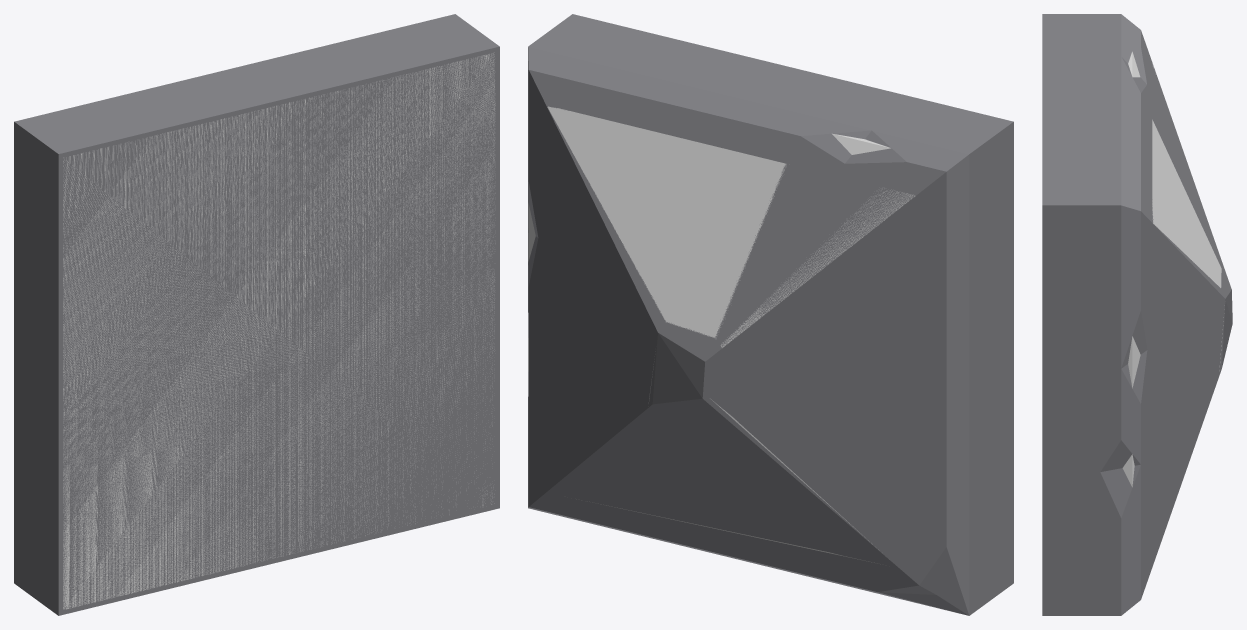
Rendered from SM_Prop_Wall_Panel_Small_03.fbx.
The picture shows the model from 3 angles, left to right: view 1: azimuth 30°, elevation 25°; view 2: azimuth 150°, elevation 25°; view 3: azimuth 270°, elevation 25°; orthographic projection. The views are drawn at different scales.
Parts seen in each view (by area): view 1: SM_Prop_Wall_Panel_Small_03_LOD0, SM_Prop_Wall_Panel_Small_03_ConvexHulls; view 2: SM_Prop_Wall_Panel_Small_03_LOD0, SM_Prop_Wall_Panel_Small_03_ConvexHulls; view 3: SM_Prop_Wall_Panel_Small_03_LOD0, SM_Prop_Wall_Panel_Small_03_ConvexHulls.
Boxes of the visible parts, box(x1,y1,x2,y2) form: SM_Prop_Wall_Panel_Small_03_LOD0: box(14, 14, 499, 615); SM_Prop_Wall_Panel_Small_03_ConvexHulls: box(63, 52, 495, 609); SM_Prop_Wall_Panel_Small_03_LOD0: box(528, 14, 1013, 615); SM_Prop_Wall_Panel_Small_03_ConvexHulls: box(528, 106, 915, 564); SM_Prop_Wall_Panel_Small_03_LOD0: box(1042, 14, 1232, 615); SM_Prop_Wall_Panel_Small_03_ConvexHulls: box(1122, 51, 1224, 487).
Size of the model in its own units: 21.07 by 50.07 by 50.07.
Materials: 1 (1 with a texture image).
